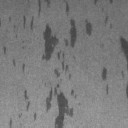red iron: (23, 0, 93, 128), (94, 0, 114, 28), (120, 35, 128, 70), (12, 58, 26, 73), (102, 66, 109, 94), (9, 117, 13, 128), (125, 84, 128, 98), (2, 46, 6, 54)
